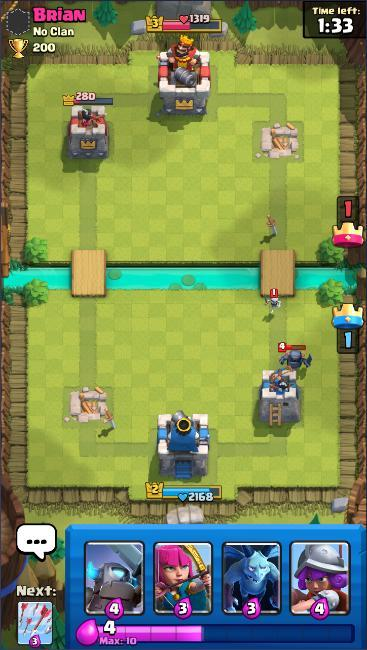enemy_mini_pekka: (276, 341, 313, 374)
enemy_skeleton: (261, 286, 285, 316)
